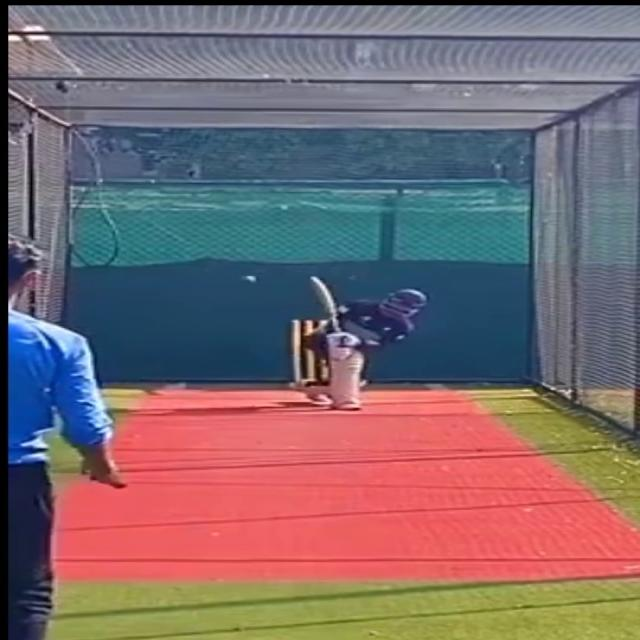ball: (238, 272, 257, 284)
stump: (286, 317, 318, 391)
